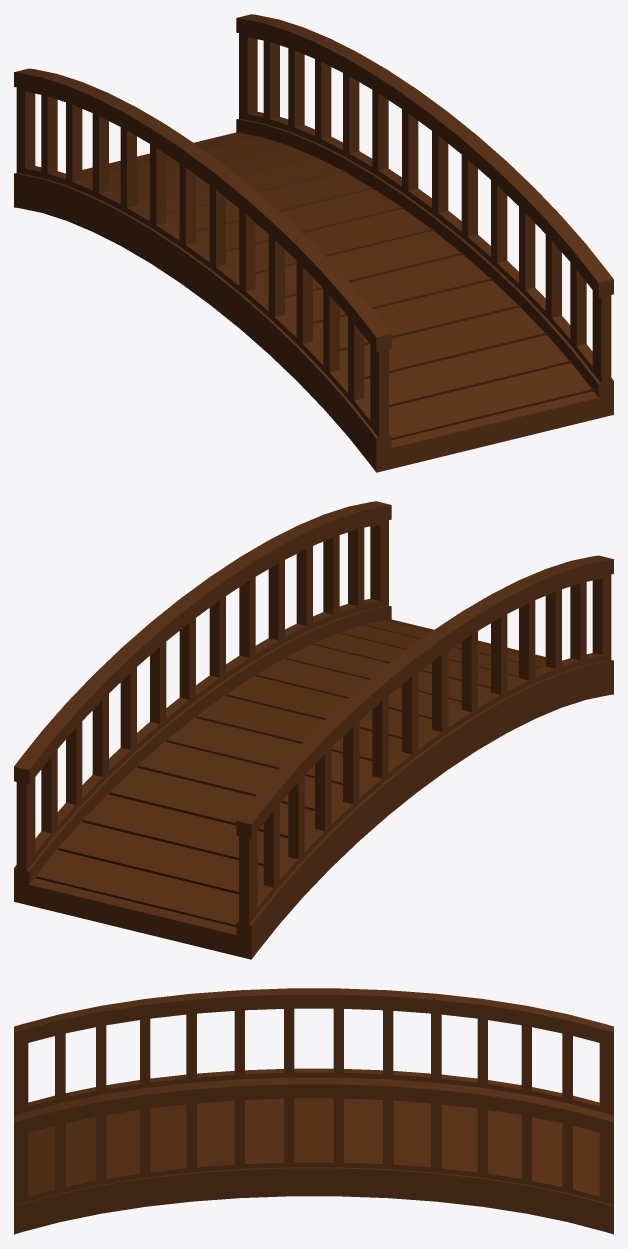
Rendered from Wood_bridge.fbx.
3 renders of one model, top to bottom at view 1: azimuth 30°, elevation 25°; view 2: azimuth 150°, elevation 25°; view 3: azimuth 270°, elevation 25°, orthographic. The views are drawn at different scales.
Visible parts, largest first — view 1: Cube.001; view 2: Cube.001; view 3: Cube.001.
Part boxes in pixels (bbox=[...]): Cube.001: bbox=[14, 14, 613, 472]; Cube.001: bbox=[14, 501, 613, 959]; Cube.001: bbox=[14, 988, 613, 1234].
Size of the model in its own units: 454 by 331 by 1200.
